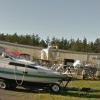Boat: (5, 45, 77, 95)
